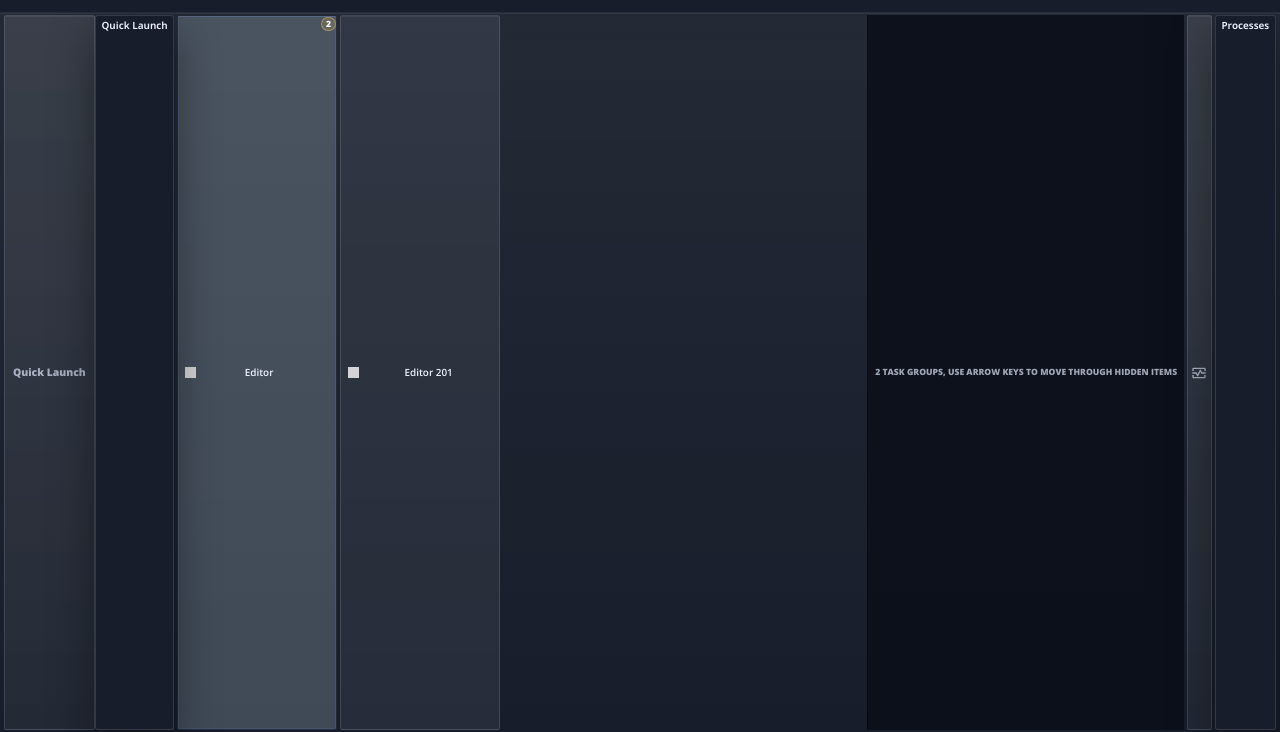
capsule badge right-click opens exactly the three group actions, with presentation-only PID
The width and height of the screenshot is (1280, 732).
Expected: the text named "2 windows" is shown, [322,17,336,31]
Right-click the button with class "task-capsule" at (258, 372), box [178,15,338,730]
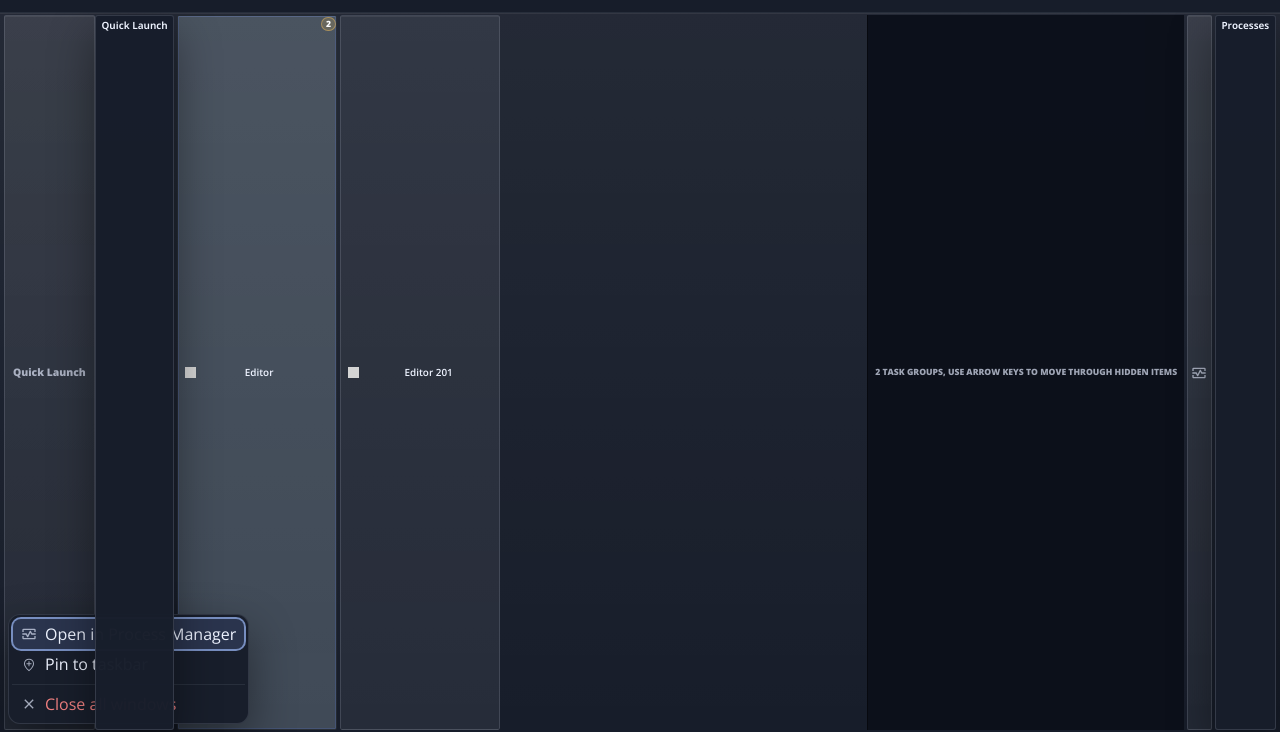
Now the menu named "Context menu" is shown, box [8,614,249,724]
Now the menu items read "Open in Process Manager", "Pin to taskbar", "Close all windows", in this order, box [13,619,244,649]; [13,649,244,680]; [13,689,244,719]
